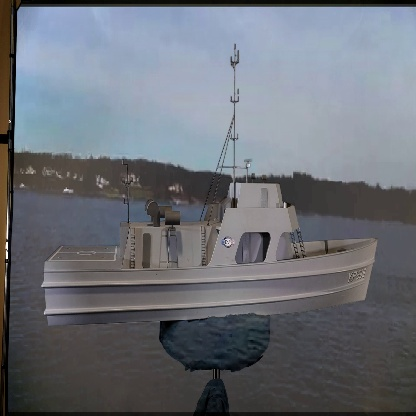YP689: (38, 34, 378, 330)
